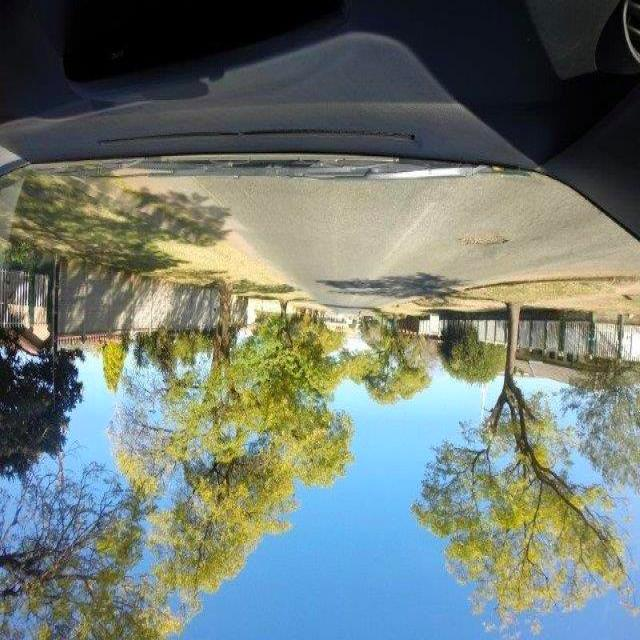lubang: (460, 228, 514, 252)
